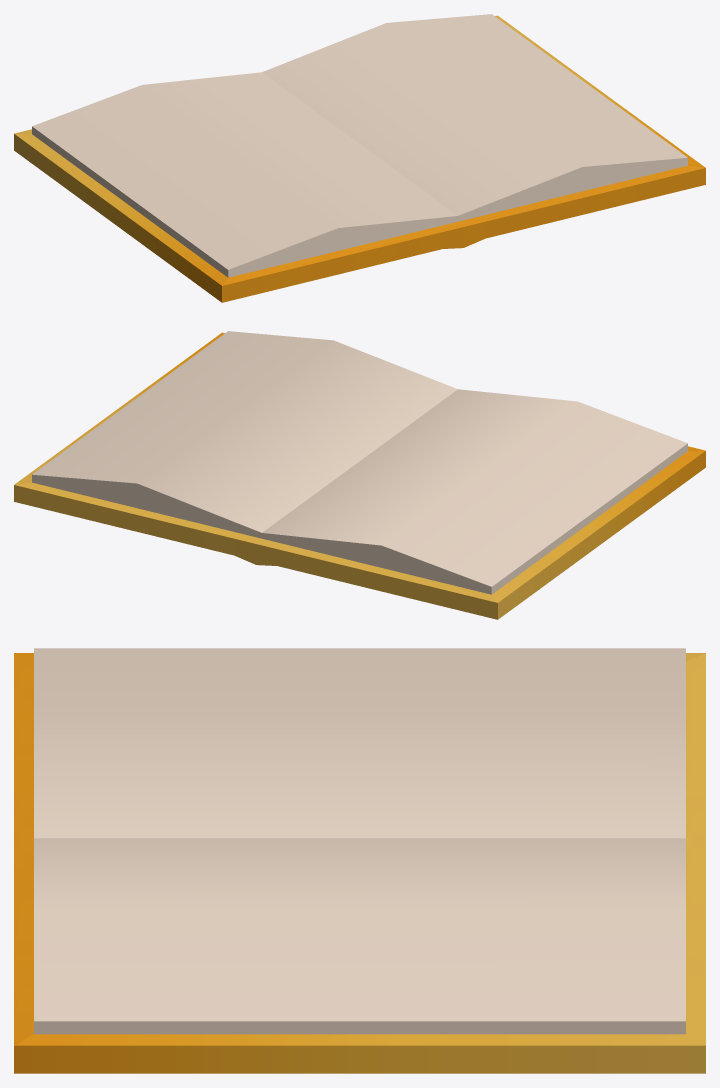
The model's file is SM_Book_Open_1_01.fbx.
The picture shows the model from 3 angles, top to bottom: view 1: azimuth 30°, elevation 25°; view 2: azimuth 150°, elevation 25°; view 3: azimuth 270°, elevation 25°; orthographic projection. The views are drawn at different scales.
Visible parts, largest first — view 1: SM_Book_Open_1_01; view 2: SM_Book_Open_1_01; view 3: SM_Book_Open_1_01.
Part boxes in pixels (<box>): SM_Book_Open_1_01: <box>14,14,705,302</box>; SM_Book_Open_1_01: <box>14,331,705,619</box>; SM_Book_Open_1_01: <box>14,648,705,1073</box>.
Bounding box in the file's own units: 46.68 × 4.3 × 34.78.
